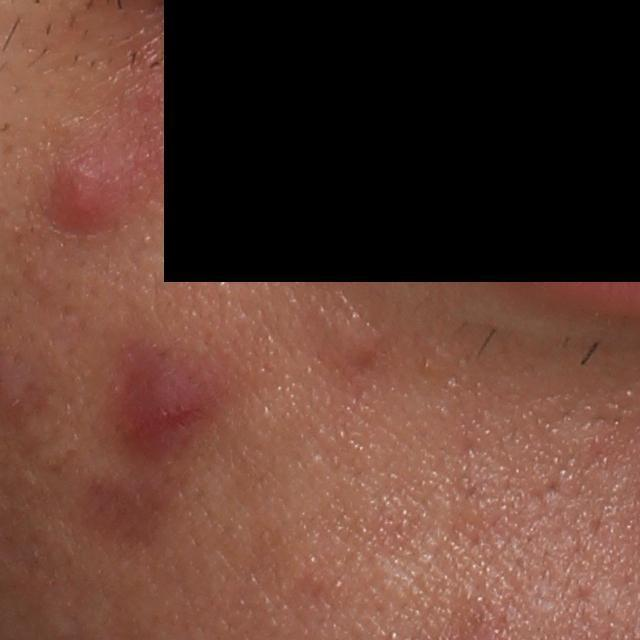hypertrophic_scar: (310, 302, 396, 376), (371, 562, 422, 608)
papule: (109, 351, 204, 442), (45, 163, 117, 236)
